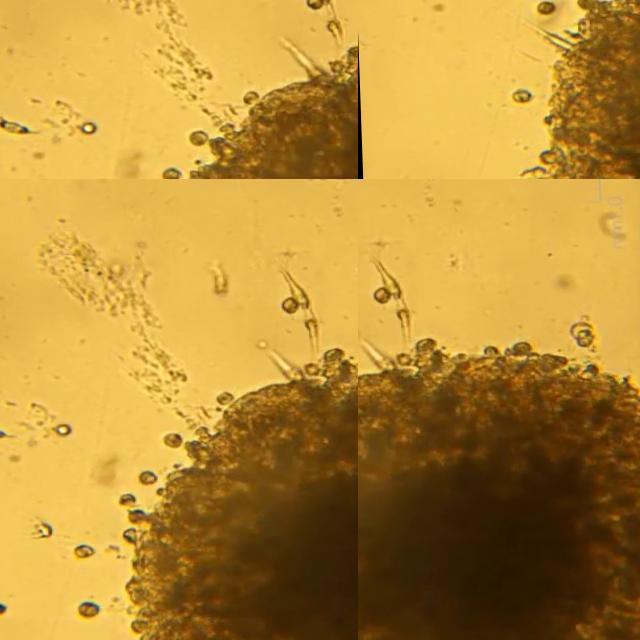cell: (280, 268, 307, 307), (372, 258, 399, 297), (568, 322, 596, 345), (305, 316, 321, 352), (397, 306, 413, 342), (0, 118, 32, 133), (78, 601, 99, 620), (536, 0, 557, 17), (137, 467, 158, 484), (327, 18, 343, 38), (32, 521, 52, 537), (512, 87, 533, 102), (72, 543, 93, 557), (119, 491, 137, 507), (215, 388, 233, 403), (79, 119, 98, 133), (164, 432, 180, 448), (281, 298, 296, 315), (373, 288, 388, 305), (53, 421, 71, 435), (190, 128, 206, 143), (163, 167, 180, 179), (306, 0, 323, 7), (0, 602, 5, 613)
tumor_mass: (358, 333, 640, 640), (121, 341, 358, 640), (189, 35, 358, 179)
